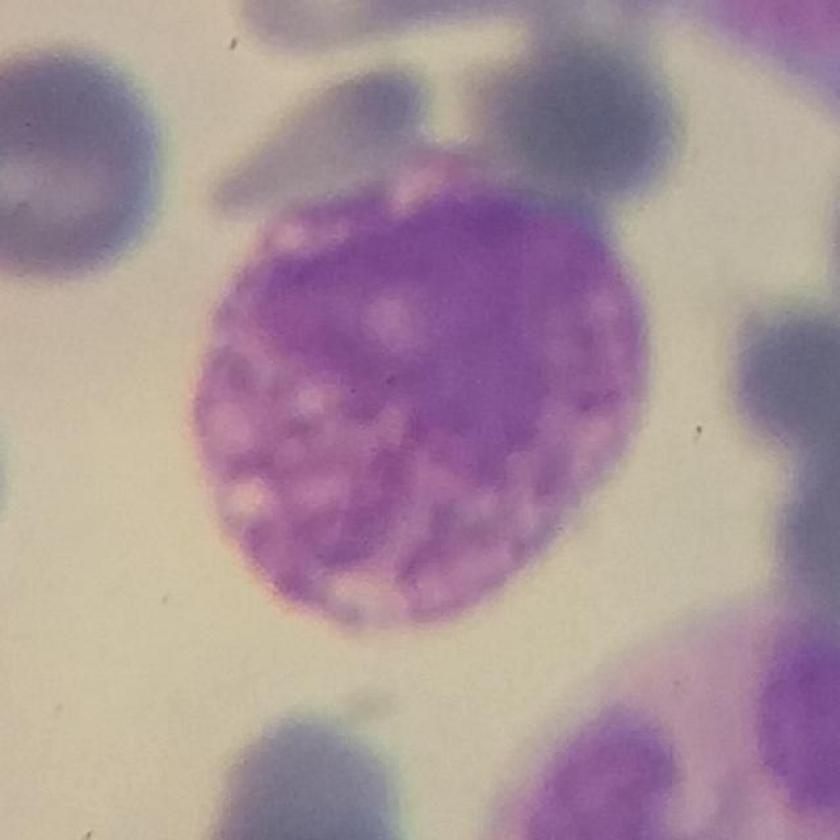basophil: (183, 149, 673, 630)
